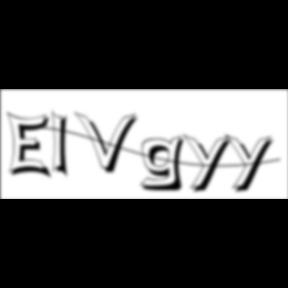E: (7, 110, 56, 182)
V: (76, 110, 142, 176)
g: (140, 134, 192, 194)
l: (52, 108, 76, 182)
y: (183, 132, 237, 196), (225, 132, 279, 196)
